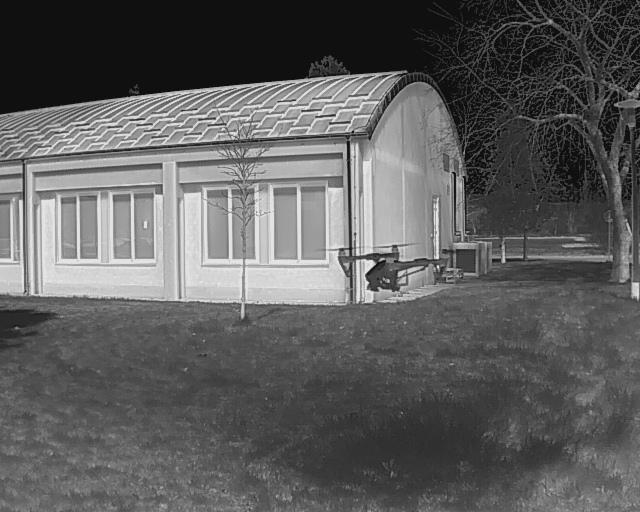drone: (314, 224, 464, 317)
